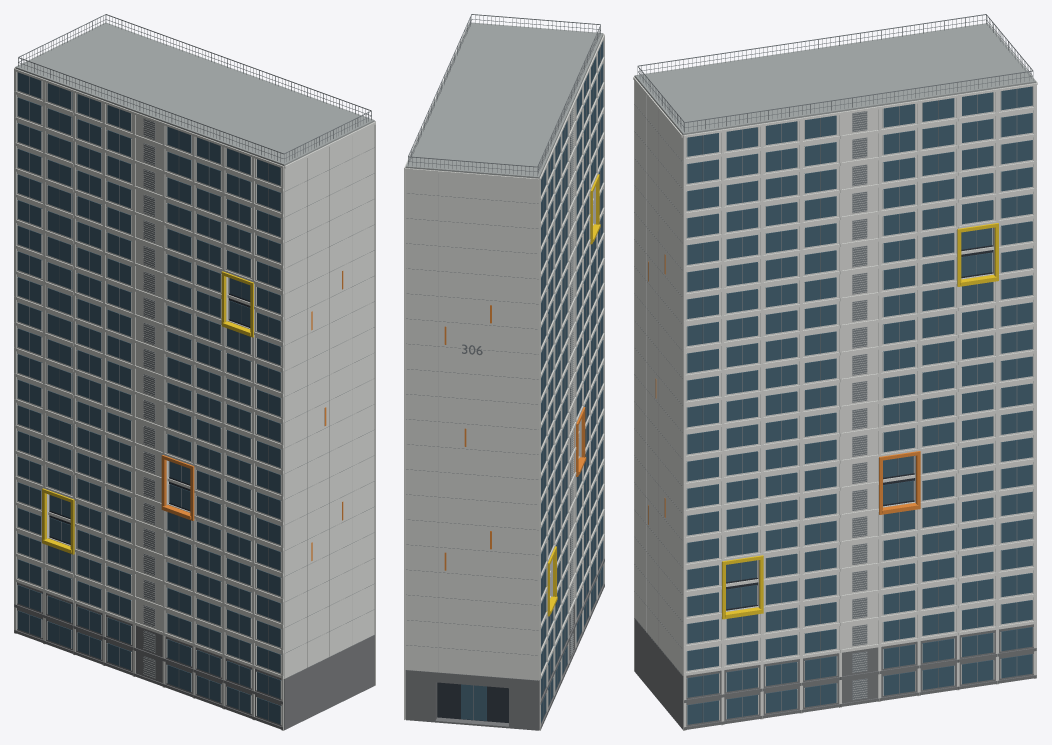
File: bespoke-songpa-helio-city-306.glb
3 views of the same model, side by side, from view 1: azimuth 30°, elevation 25°; view 2: azimuth 150°, elevation 25°; view 3: azimuth 270°, elevation 25° (orthographic). The views are drawn at different scales.
Visible parts, largest first — view 1: Helio306_editable_Helio306_white_slab_frames, Helio306_editable_Helio306_dark_blue_grey_glazing, Helio306_editable_Helio306_low_roof_deck, Helio306_editable_Helio306_grey_service_grille, Helio306_editable_Helio306_dark_grey_twofloor_base, Helio306_editable_Helio306_blankwall_grey_panels, Helio306_editable_Helio306_yellow_projecting_rectangular_fra, Helio306_editable_Helio306_orange_narrow_accent; view 2: Helio306_editable_Helio306_white_slab_frames, Helio306_editable_Helio306_dark_blue_grey_glazing, Helio306_editable_Helio306_low_roof_deck, Helio306_editable_Helio306_grey_service_grille, Helio306_editable_Helio306_dark_grey_twofloor_base, Helio306_editable_Helio306_blankwall_grey_panels, Helio306_editable_Helio306_deep_shaded_frame_recess, Helio306_editable_Helio306_yellow_projecting_rectangular_fra, Helio306_editable_Helio306_orange_narrow_accent; view 3: Helio306_editable_Helio306_white_slab_frames, Helio306_editable_Helio306_dark_blue_grey_glazing, Helio306_editable_Helio306_low_roof_deck, Helio306_editable_Helio306_grey_service_grille, Helio306_editable_Helio306_dark_grey_twofloor_base, Helio306_editable_Helio306_blankwall_grey_panels, Helio306_editable_Helio306_yellow_projecting_rectangular_fra, Helio306_editable_Helio306_orange_narrow_accent, Helio306_editable_Helio306_deep_shaded_frame_recess.
Boxes of the visible parts, <box> form: Helio306_editable_Helio306_white_slab_frames: <box>14,67,375,730</box>; Helio306_editable_Helio306_dark_blue_grey_glazing: <box>17,72,280,724</box>; Helio306_editable_Helio306_low_roof_deck: <box>15,22,374,165</box>; Helio306_editable_Helio306_grey_service_grille: <box>18,14,374,720</box>; Helio306_editable_Helio306_dark_grey_twofloor_base: <box>14,582,374,730</box>; Helio306_editable_Helio306_blankwall_grey_panels: <box>143,118,352,677</box>; Helio306_editable_Helio306_yellow_projecting_rectangular_fra: <box>42,271,253,554</box>; Helio306_editable_Helio306_orange_narrow_accent: <box>161,271,343,560</box>; Helio306_editable_Helio306_white_slab_frames: <box>404,24,604,730</box>; Helio306_editable_Helio306_dark_blue_grey_glazing: <box>461,41,603,722</box>; Helio306_editable_Helio306_low_roof_deck: <box>405,22,603,178</box>; Helio306_editable_Helio306_grey_service_grille: <box>406,14,600,720</box>; Helio306_editable_Helio306_dark_grey_twofloor_base: <box>405,555,604,730</box>; Helio306_editable_Helio306_blankwall_grey_panels: <box>438,109,573,672</box>; Helio306_editable_Helio306_deep_shaded_frame_recess: <box>437,682,508,722</box>; Helio306_editable_Helio306_yellow_projecting_rectangular_fra: <box>546,174,600,616</box>; Helio306_editable_Helio306_orange_narrow_accent: <box>444,305,586,570</box>; Helio306_editable_Helio306_white_slab_frames: <box>633,24,1037,730</box>; Helio306_editable_Helio306_dark_blue_grey_glazing: <box>687,86,1032,724</box>; Helio306_editable_Helio306_low_roof_deck: <box>634,23,1036,134</box>; Helio306_editable_Helio306_grey_service_grille: <box>634,14,1033,722</box>; Helio306_editable_Helio306_dark_grey_twofloor_base: <box>634,618,1036,730</box>; Helio306_editable_Helio306_blankwall_grey_panels: <box>646,95,867,699</box>; Helio306_editable_Helio306_yellow_projecting_rectangular_fra: <box>722,223,998,619</box>; Helio306_editable_Helio306_orange_narrow_accent: <box>648,254,920,524</box>; Helio306_editable_Helio306_deep_shaded_frame_recess: <box>726,228,993,610</box>.
Size of the model in its own units: 24.8 by 62.6 by 37.82.
